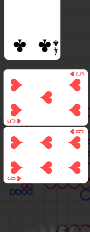10H: (7, 174, 23, 181)
5H: (69, 70, 85, 77)
